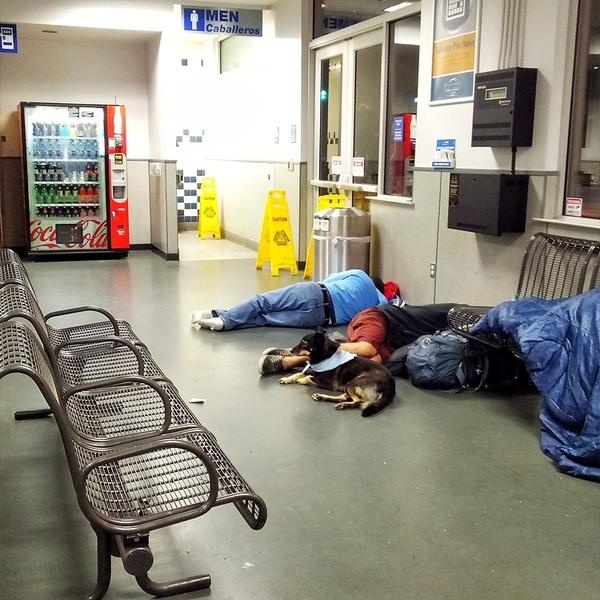falling: (188, 249, 423, 352)
